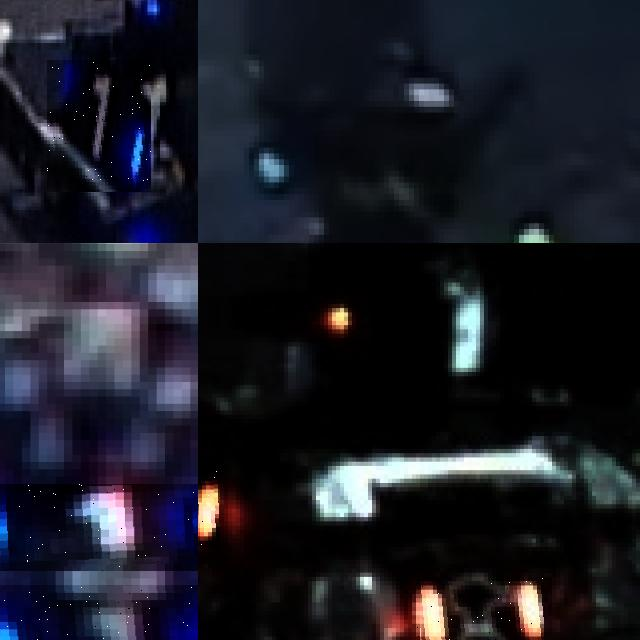B1: (0, 483, 198, 571), (47, 61, 151, 192), (0, 585, 198, 640)
Rs: (416, 577, 544, 640), (198, 457, 220, 546)
